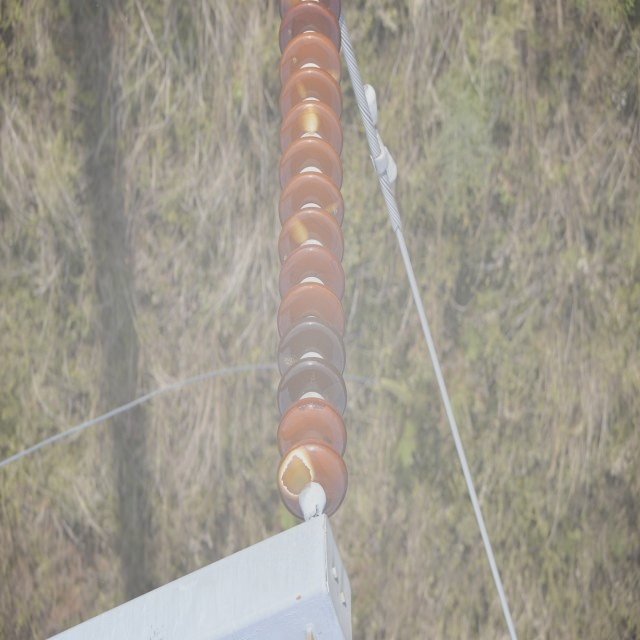insulator: (277, 0, 350, 513)
